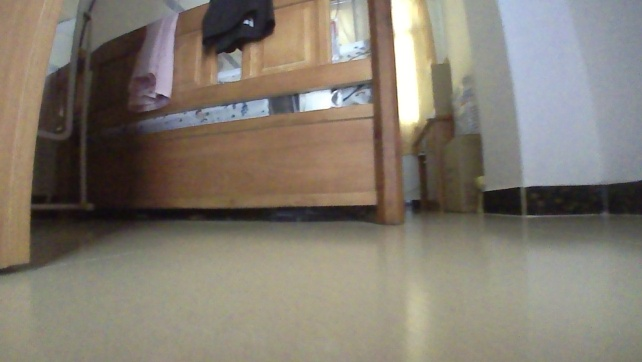bed1: (79, 0, 407, 229)
